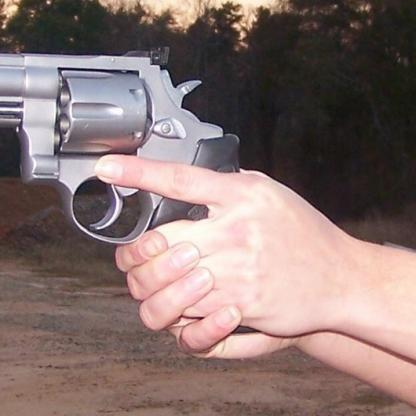gun: (0, 24, 270, 344)
